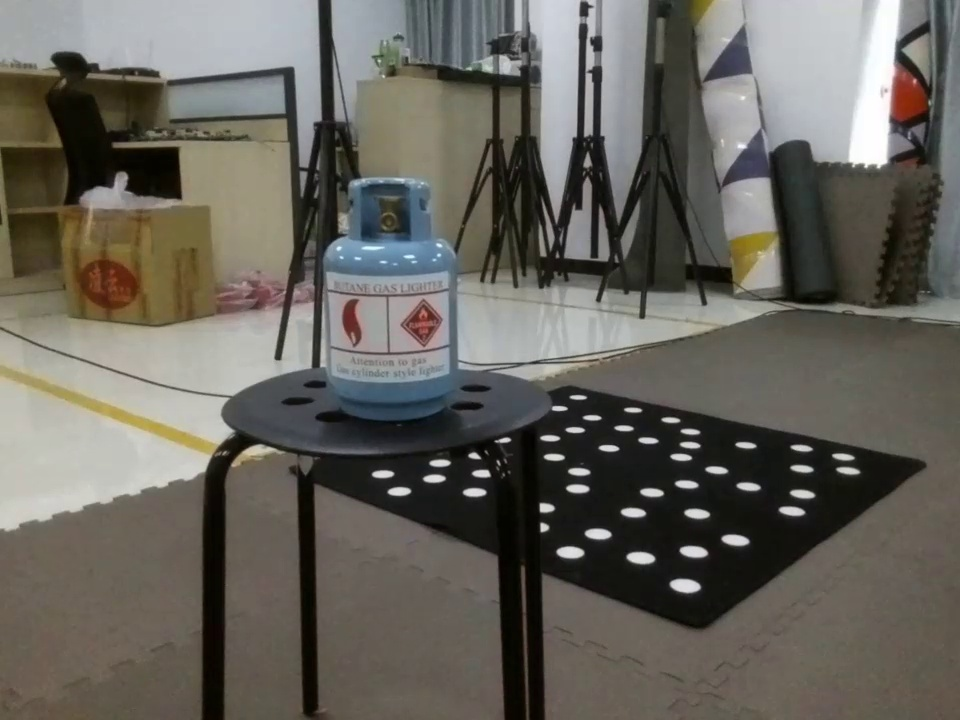gas tank: (305, 170, 489, 431)
